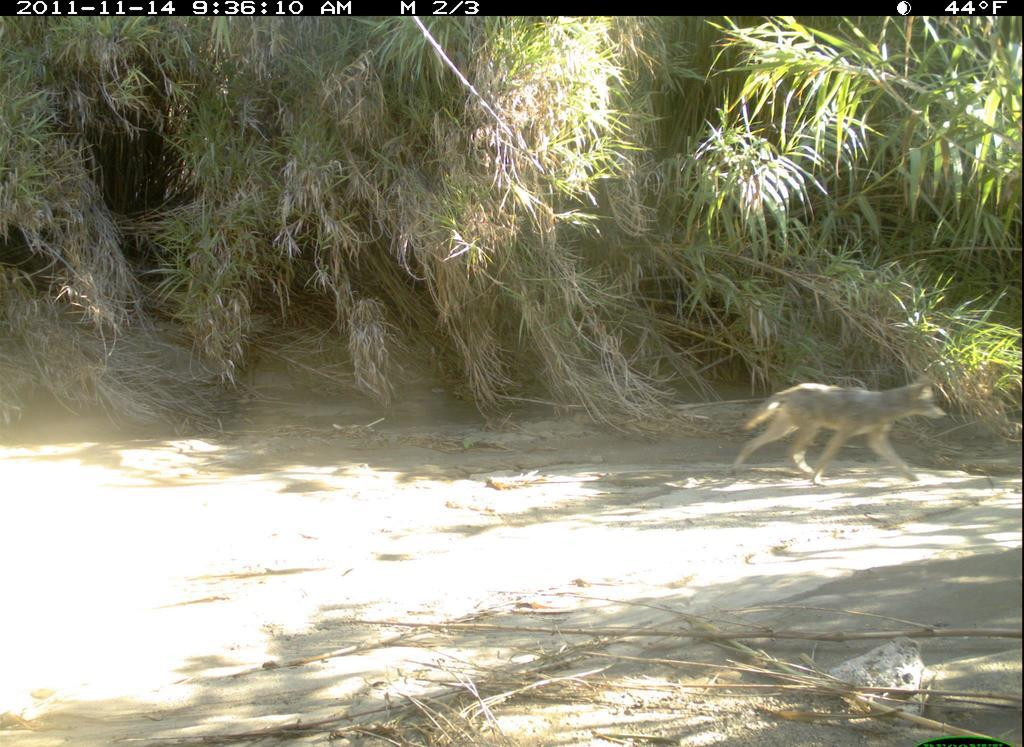coyote: (719, 360, 966, 505)
